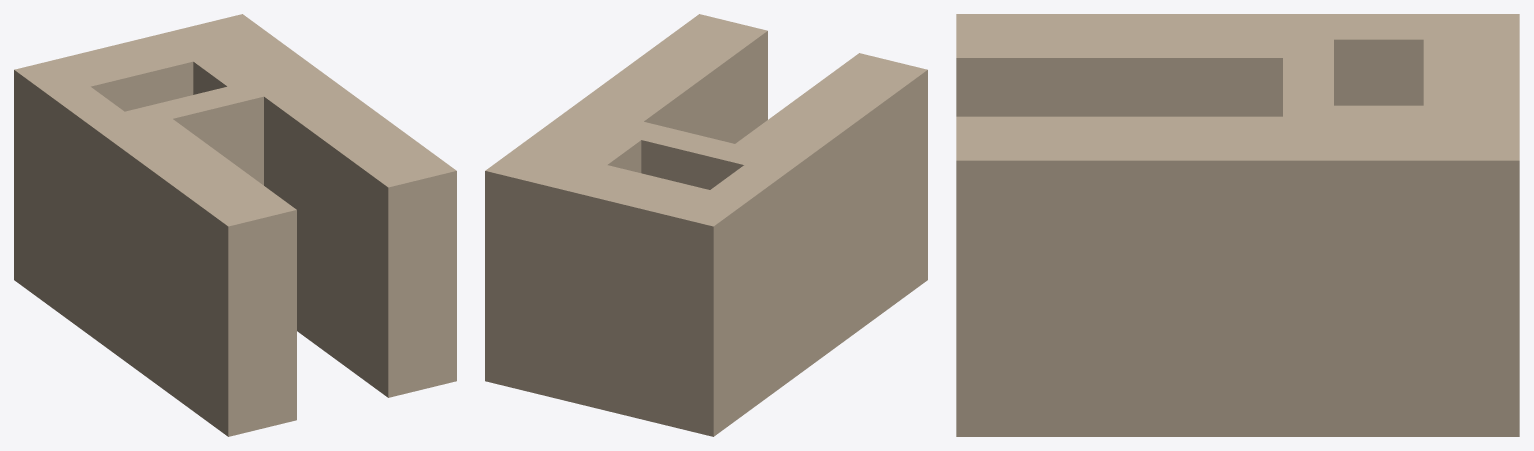
File: massing.glb
The picture shows the model from 3 angles, left to right: view 1: azimuth 30°, elevation 25°; view 2: azimuth 150°, elevation 25°; view 3: azimuth 270°, elevation 25°; orthographic projection. The views are drawn at different scales.
Parts seen in each view (by area): view 1: building/exterior; view 2: building/exterior; view 3: building/exterior.
Part boxes in pixels (bbox=[...]): building/exterior: bbox=[14, 14, 456, 436]; building/exterior: bbox=[485, 14, 927, 436]; building/exterior: bbox=[956, 14, 1519, 436].
Size of the model in its own units: 10 by 8.8 by 16.24.
